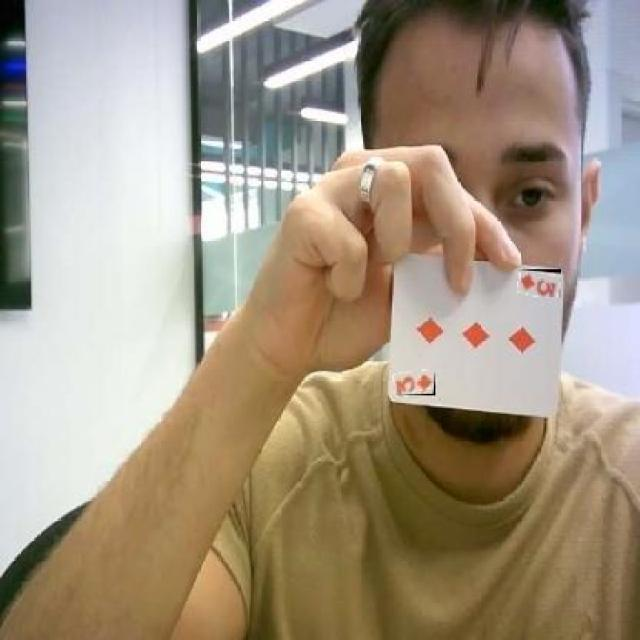3D: (517, 269, 560, 297), (394, 372, 435, 396)
